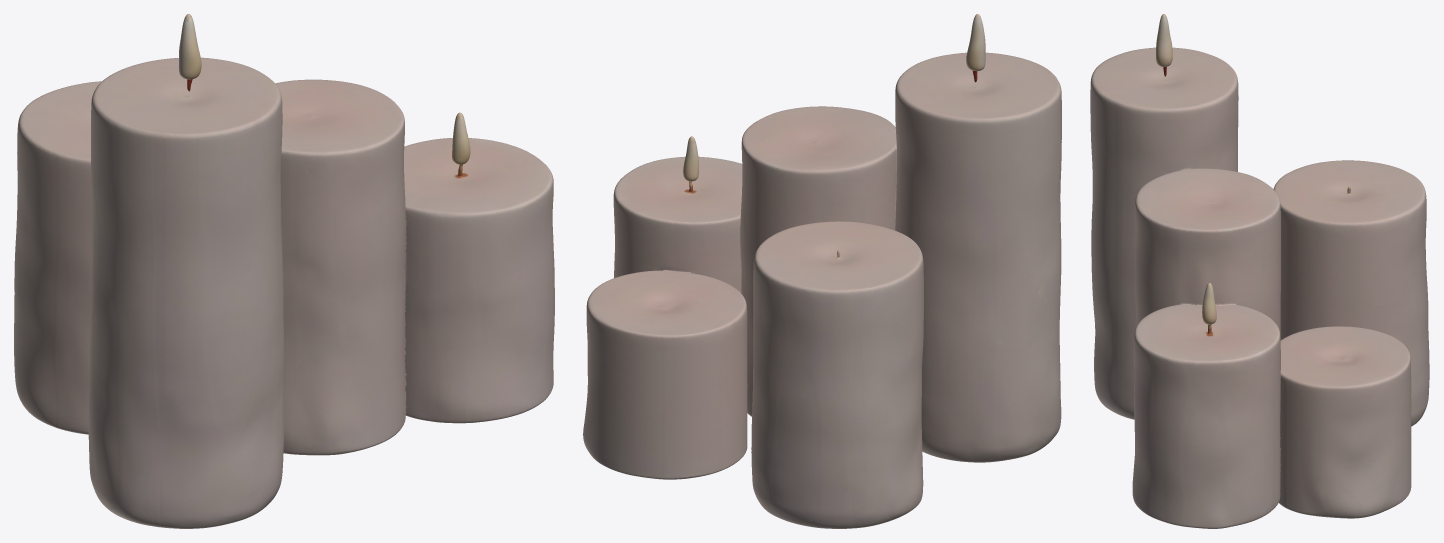
The model's file is detailed_realistic_model_floatingcandles_04.glb.
3 renders of one model, left to right at view 1: azimuth 30°, elevation 25°; view 2: azimuth 150°, elevation 25°; view 3: azimuth 270°, elevation 25°, orthographic. The views are drawn at different scales.
Visible parts, largest first — view 1: tripo_node_6e42f297-5b10-4ca1-8dbc-99523d713028; view 2: tripo_node_6e42f297-5b10-4ca1-8dbc-99523d713028; view 3: tripo_node_6e42f297-5b10-4ca1-8dbc-99523d713028.
Boxes of the visible parts, box(x1,y1,x2,y2) form: tripo_node_6e42f297-5b10-4ca1-8dbc-99523d713028: box(14, 14, 554, 528); tripo_node_6e42f297-5b10-4ca1-8dbc-99523d713028: box(583, 14, 1061, 528); tripo_node_6e42f297-5b10-4ca1-8dbc-99523d713028: box(1090, 14, 1429, 528).
Size of the model in its own units: 1 by 0.9867 by 0.7928.
1 material, 1 textured.
